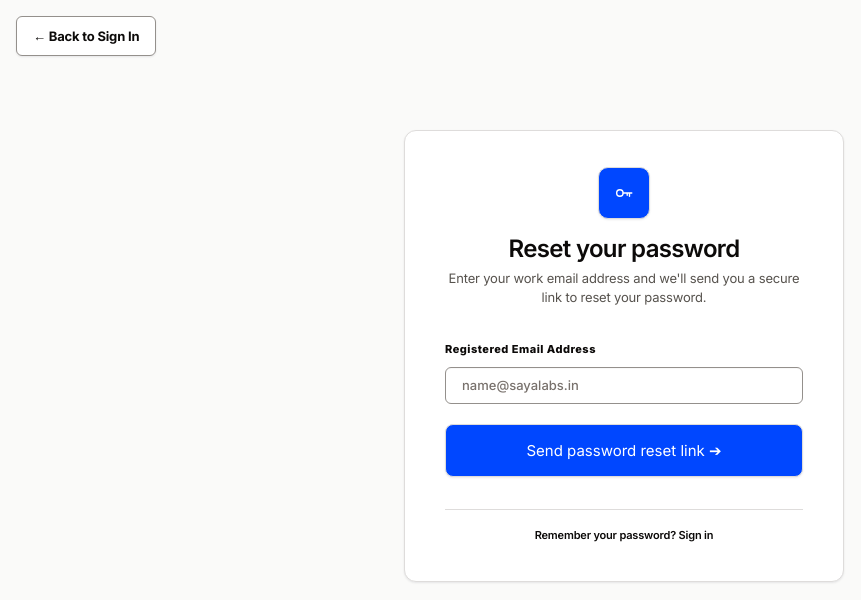
Test: password recovery journey › sends the reset email pointed at the page that consumes the token
Type "founder@acme.test" into the field labelled "Registered Email Address".
click(624, 385); type("founder@acme.test")  # box [445, 366, 803, 404]
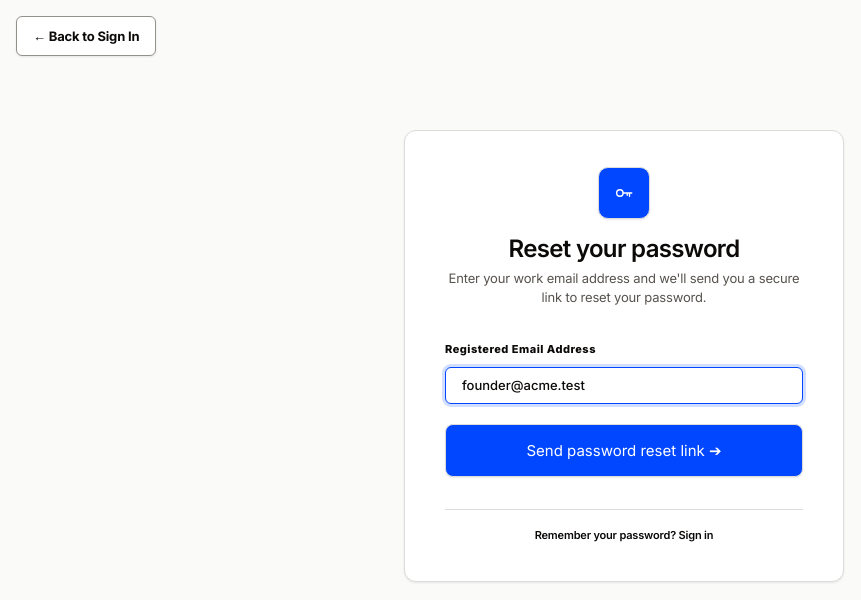
Click the button "Send password reset link ➔".
click(624, 451)  # box [445, 424, 803, 477]
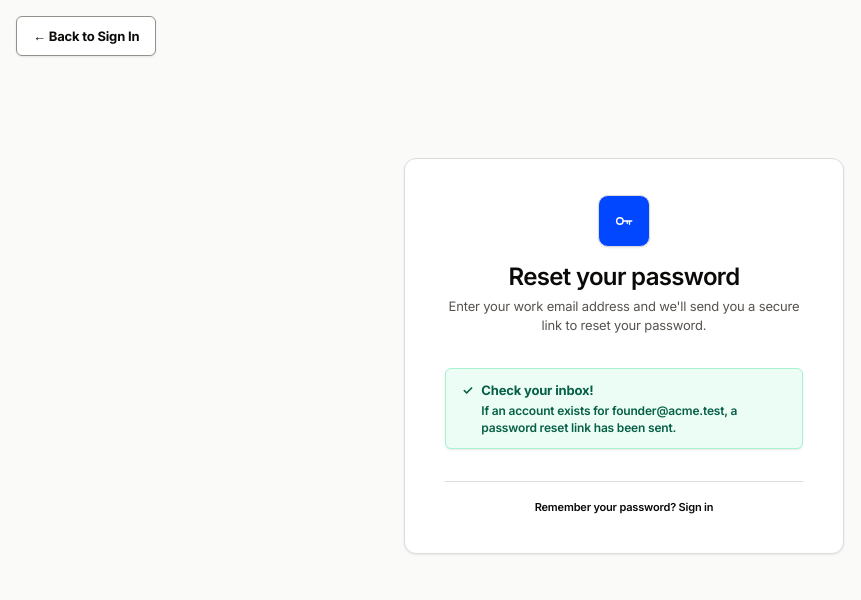
Check: the text "Check your inbox!" is shown, box [481, 382, 594, 398]
